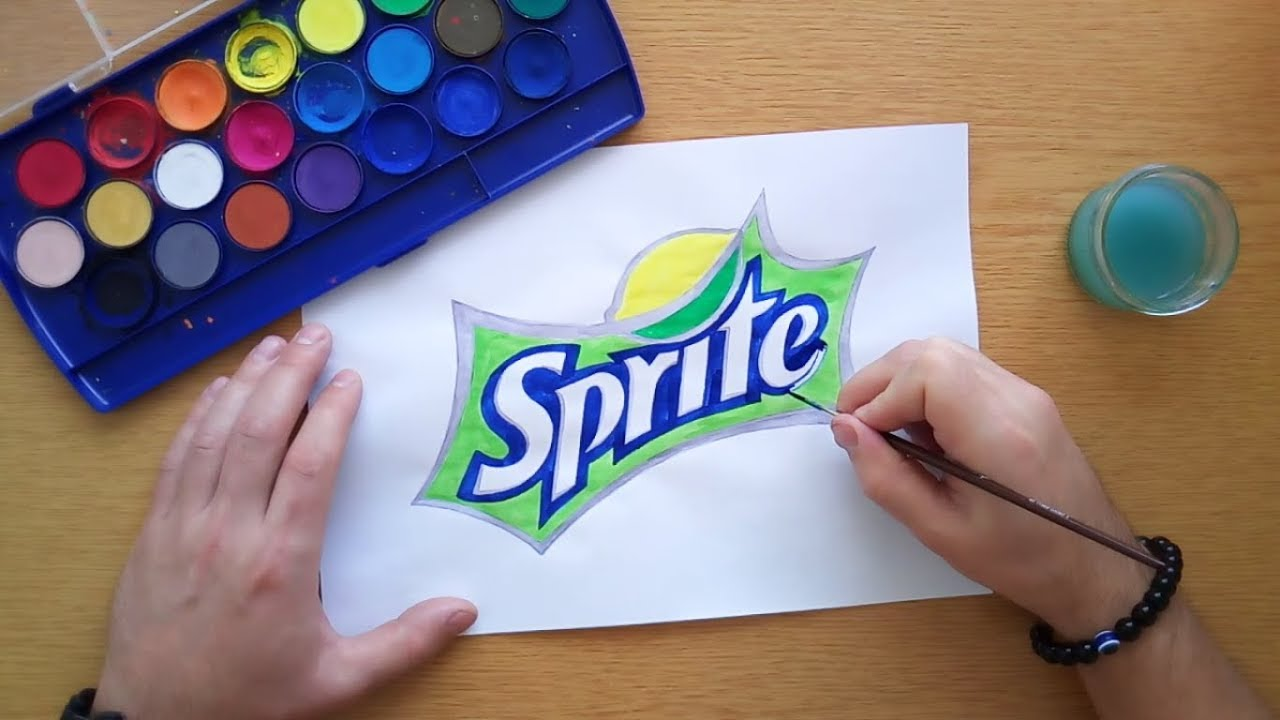sprite: (465, 275, 820, 516), (465, 275, 820, 502), (465, 275, 820, 497)
